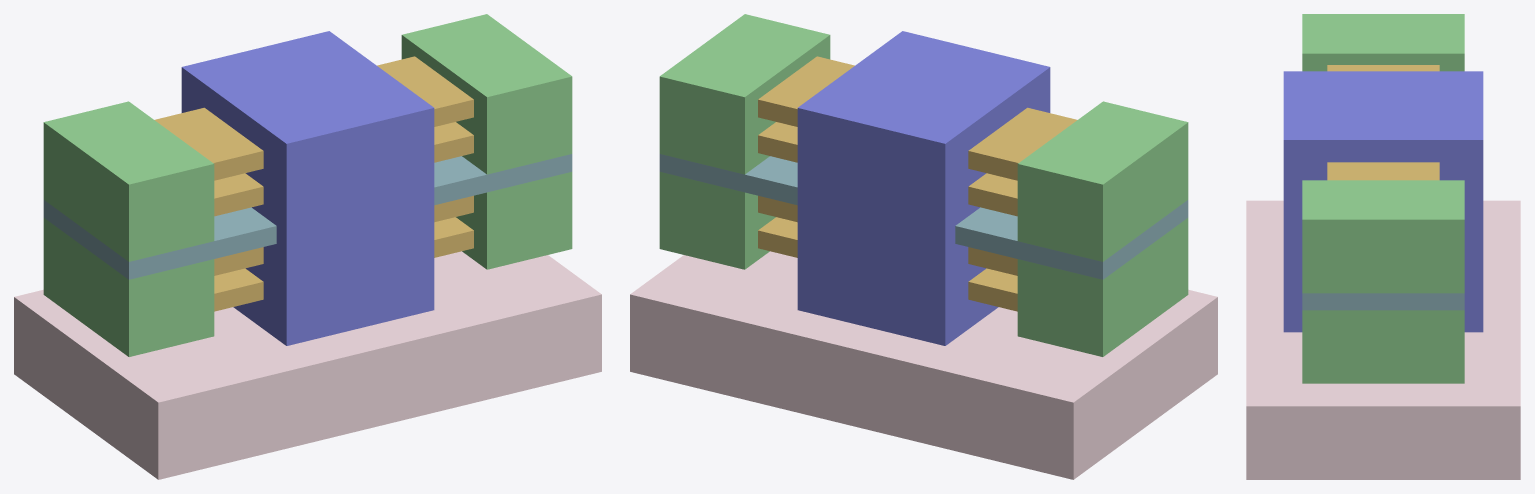
File: simp_cfet.glb
3 renders of one model, left to right at view 1: azimuth 30°, elevation 25°; view 2: azimuth 150°, elevation 25°; view 3: azimuth 270°, elevation 25°, orthographic. The views are drawn at different scales.
Visible parts, largest first — view 1: sub, gate, src1, drn1, src0, iso, drn0, ch11, ch10, ch00, ch01; view 2: sub, gate, src1, drn1, src0, iso, drn0, ch11, ch10, ch00, ch01; view 3: sub, gate, drn1, drn0, src1, ch11, iso.
Part boxes in pixels (bbox=[...]): sub: bbox=[14, 251, 601, 479]; gate: bbox=[181, 31, 434, 345]; src1: bbox=[43, 101, 214, 261]; drn1: bbox=[401, 14, 572, 174]; src0: bbox=[43, 218, 214, 356]; iso: bbox=[43, 154, 572, 279]; drn0: bbox=[456, 172, 572, 269]; ch11: bbox=[155, 56, 473, 180]; ch10: bbox=[214, 122, 473, 216]; ch00: bbox=[214, 217, 473, 311]; ch01: bbox=[214, 195, 473, 275]; sub: bbox=[630, 251, 1217, 479]; gate: bbox=[797, 31, 1050, 345]; src1: bbox=[1017, 101, 1188, 261]; drn1: bbox=[659, 14, 830, 174]; src0: bbox=[1017, 218, 1188, 356]; iso: bbox=[659, 154, 1188, 279]; drn0: bbox=[659, 172, 775, 269]; ch11: bbox=[758, 56, 1076, 180]; ch10: bbox=[758, 122, 1017, 216]; ch00: bbox=[758, 217, 1017, 311]; ch01: bbox=[758, 195, 1017, 275]; sub: bbox=[1246, 200, 1520, 479]; gate: bbox=[1283, 71, 1483, 332]; drn1: bbox=[1302, 180, 1464, 293]; drn0: bbox=[1302, 310, 1464, 383]; src1: bbox=[1302, 14, 1464, 71]; ch11: bbox=[1327, 65, 1439, 180]; iso: bbox=[1302, 293, 1464, 310].
Bounding box in the file's own units: 156 × 96 × 88.
